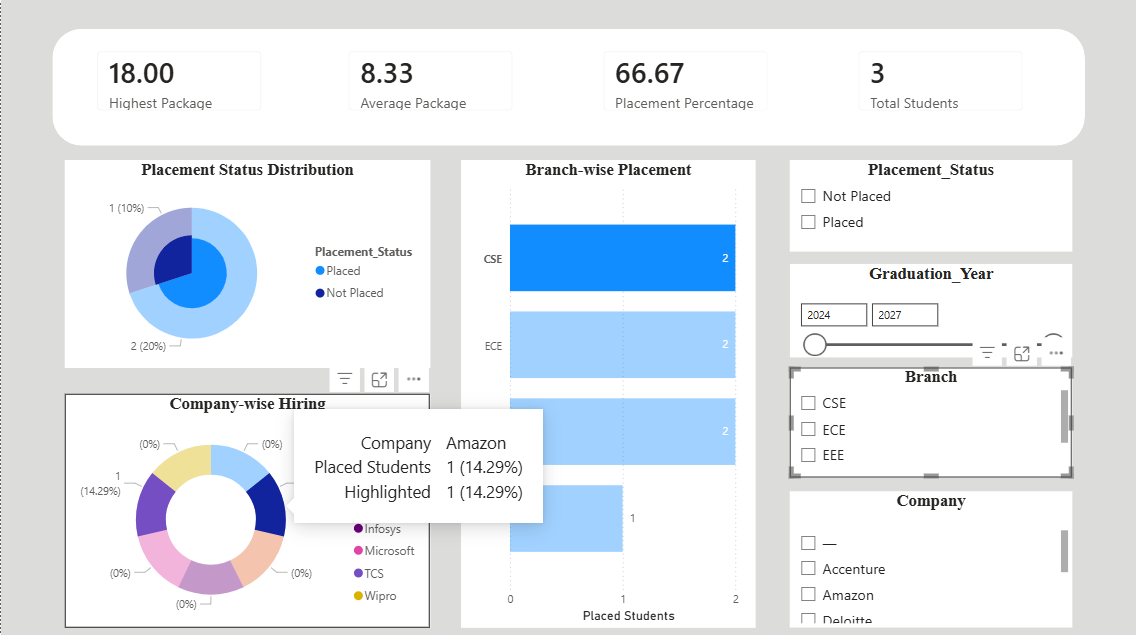

The dashboard page shown, as its layout file describes it:
{"tool":"powerbi","page":{"name":"college-placement-analytics","canvas":[1280,720],"ordinal":0},"visuals":[{"type":"shape","box":[57.6,32.9,1163.6,131.7],"z":0,"group":"g1"},{"type":"group","id":"g1","title":"Group 1","box":[57.6,32.9,1163.6,131.7],"z":0},{"type":"cardVisual","fields":{"Data":["Students.Placement Percentage"]},"box":[662.4,41.7,219.1,101.3],"z":1000,"group":"g1"},{"type":"clusteredBarChart","title":"Branch-wise Placement","fields":{"Y":["Students.Placed Students"],"Category":["Students.Branch"]},"box":[518.7,179.8,332.1,526.9],"z":1000},{"type":"donutChart","title":"Company-wise Hiring","fields":{"Category":["Placements.Company"],"Y":["Students.Placed Students"]},"box":[71.4,443.2,411.7,263.5],"z":1001},{"type":"pieChart","title":"Placement Status Distribution","fields":{"Category":["Placements.Placement_Status"],"Y":["CountNonNull(Placements.Student_ID)"]},"box":[71.4,179.8,411.7,234.6],"z":1002},{"type":"slicer","title":"Graduation_Year","fields":{"Values":["Students.Graduation_Year"]},"box":[889.2,297.8,318.4,105.7],"z":1003},{"type":"slicer","title":"Placement_Status","fields":{"Values":["Placements.Placement_Status"]},"box":[889.2,179.8,318.4,102.9],"z":1005},{"type":"slicer","title":"Branch","fields":{"Values":["Students.Branch"]},"box":[889.2,414.4,318.4,123.5],"z":1006},{"type":"slicer","title":"Company","fields":{"Values":["Placements.Company"]},"box":[889.2,553,318.4,153.7],"z":1007},{"type":"cardVisual","fields":{"Data":["Students.Average Package"]},"box":[373.9,41.7,219.1,101.3],"z":2000,"group":"g1"},{"type":"cardVisual","fields":{"Data":["Students.Highest Package"]},"box":[90.8,41.7,219.1,101.3],"z":3000,"group":"g1"},{"type":"cardVisual","fields":{"Data":["Students.Total Students"]},"box":[949.6,41.7,219.1,101.3],"z":4000,"group":"g1"}]}

Visuals, with their boxes in screenshot pixels (x1, y1, x2, y2), scaled from the page's 1280x720 canvas onto the 1136x635 screenshot:
shape: rect(51, 29, 1084, 145)
"Group 1" group: rect(51, 29, 1084, 145)
cardVisual - Students.Placement Percentage: rect(588, 37, 782, 126)
"Branch-wise Placement" clusteredBarChart: rect(460, 159, 755, 623)
"Company-wise Hiring" donutChart: rect(63, 391, 429, 623)
"Placement Status Distribution" pieChart: rect(63, 159, 429, 365)
"Graduation_Year" slicer: rect(789, 263, 1072, 356)
"Placement_Status" slicer: rect(789, 159, 1072, 249)
"Branch" slicer: rect(789, 365, 1072, 474)
"Company" slicer: rect(789, 488, 1072, 623)
cardVisual - Students.Average Package: rect(332, 37, 526, 126)
cardVisual - Students.Highest Package: rect(81, 37, 275, 126)
cardVisual - Students.Total Students: rect(843, 37, 1037, 126)
